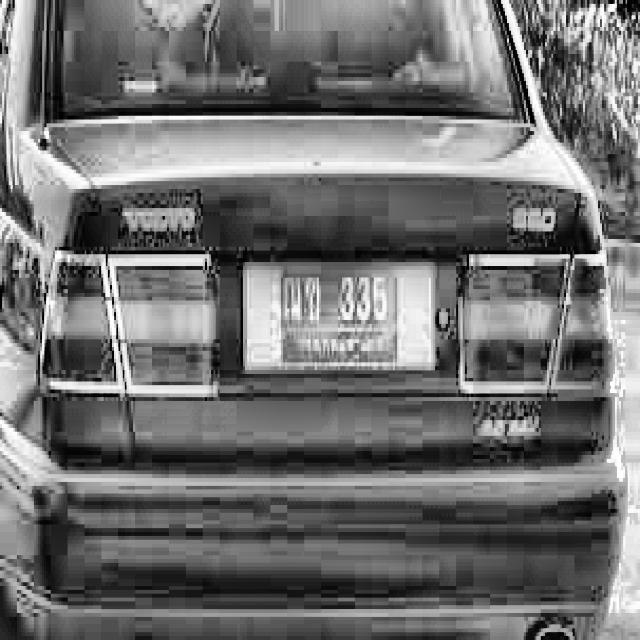license-plate: (238, 252, 444, 378)
